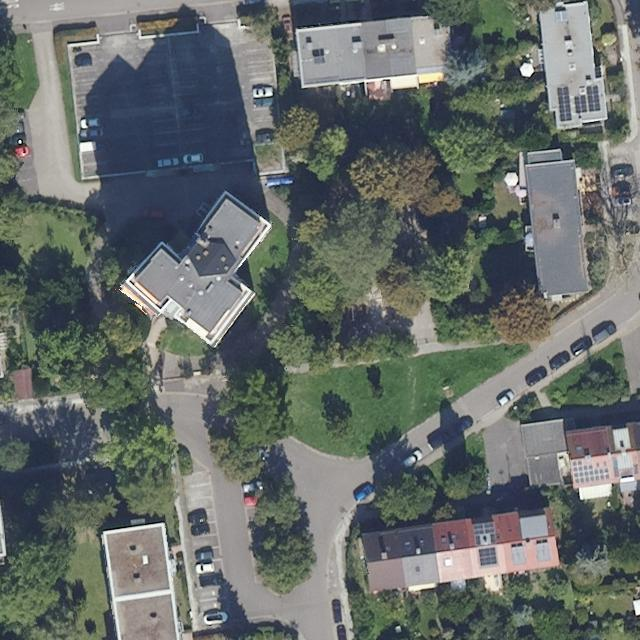PV: (571, 459, 610, 485), (557, 86, 573, 122), (472, 523, 496, 546), (477, 546, 498, 567), (586, 85, 601, 112), (574, 95, 587, 114)
